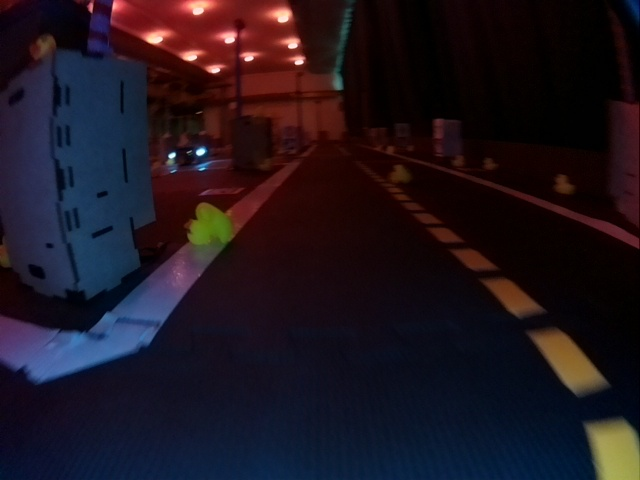Duckie: (185, 202, 233, 249), (553, 174, 575, 194), (388, 164, 410, 183)
QR code: (199, 187, 242, 195)
